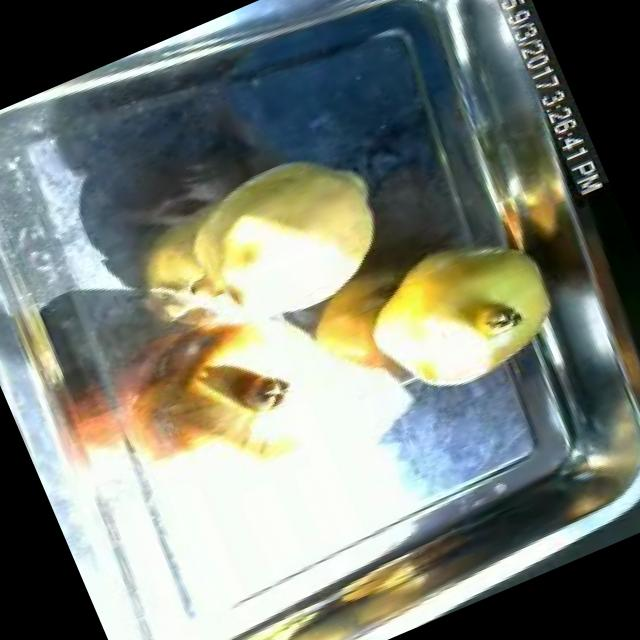fruit: (72, 272, 348, 540), (144, 118, 420, 361), (338, 202, 579, 418)
